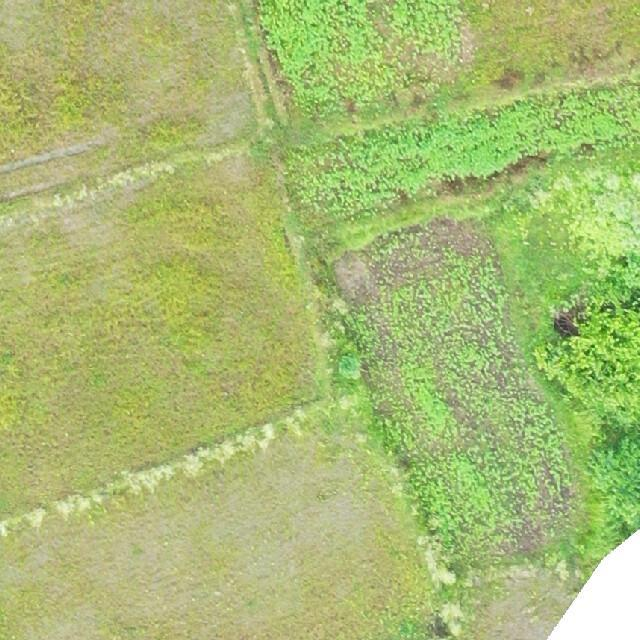tobacco: (0, 154, 375, 554), (0, 128, 269, 233), (315, 165, 535, 267)
